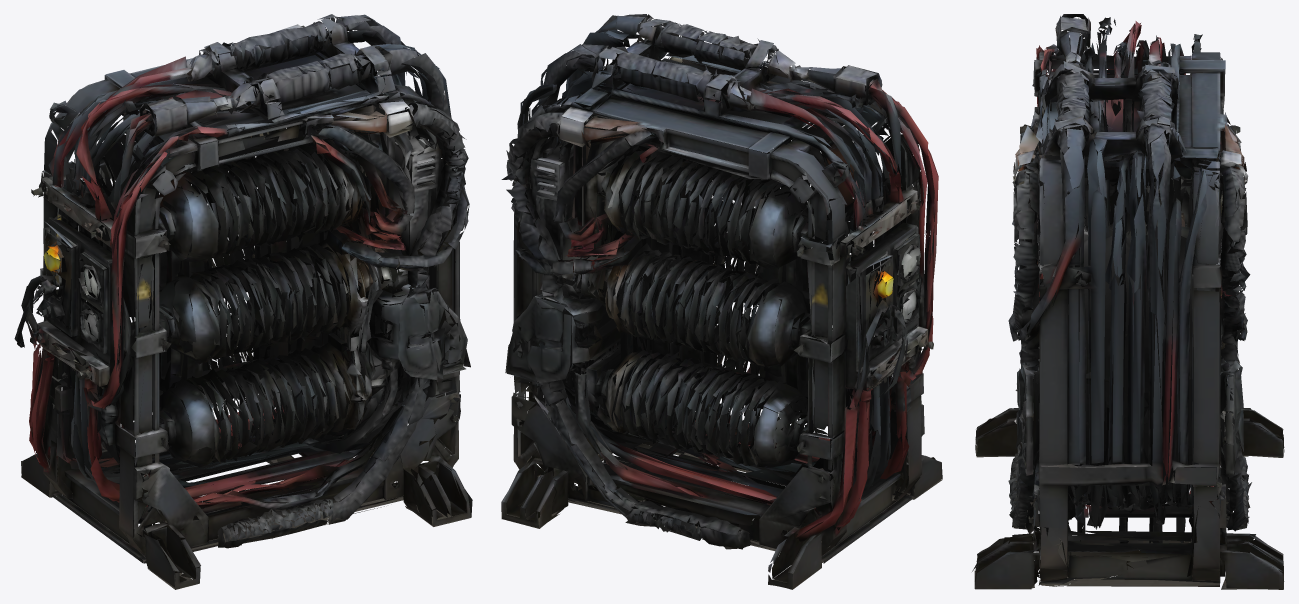
The model's file is meridian_capacitor_bomb.glb.
3 renders of one model, left to right at view 1: azimuth 30°, elevation 25°; view 2: azimuth 150°, elevation 25°; view 3: azimuth 270°, elevation 25°, orthographic. The views are drawn at different scales.
Parts seen in each view (by area): view 1: node_0; view 2: node_0; view 3: node_0.
Part boxes in pixels (x1=…): node_0: x1=14, y1=14, x2=472, y2=589; node_0: x1=501, y1=14, x2=942, y2=589; node_0: x1=972, y1=14, x2=1284, y2=589.
Bounding box in the file's own units: 0.7776 × 0.8592 × 0.5414.
1 material, 1 textured.
